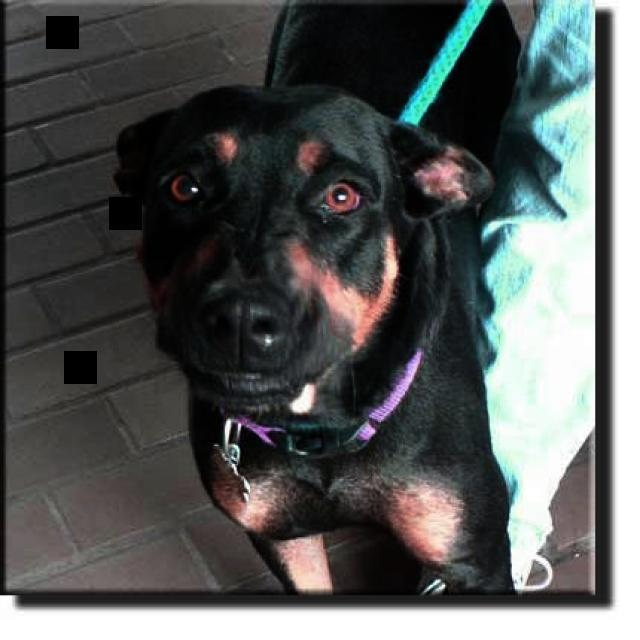adult_dog: (102, 1, 533, 607)
